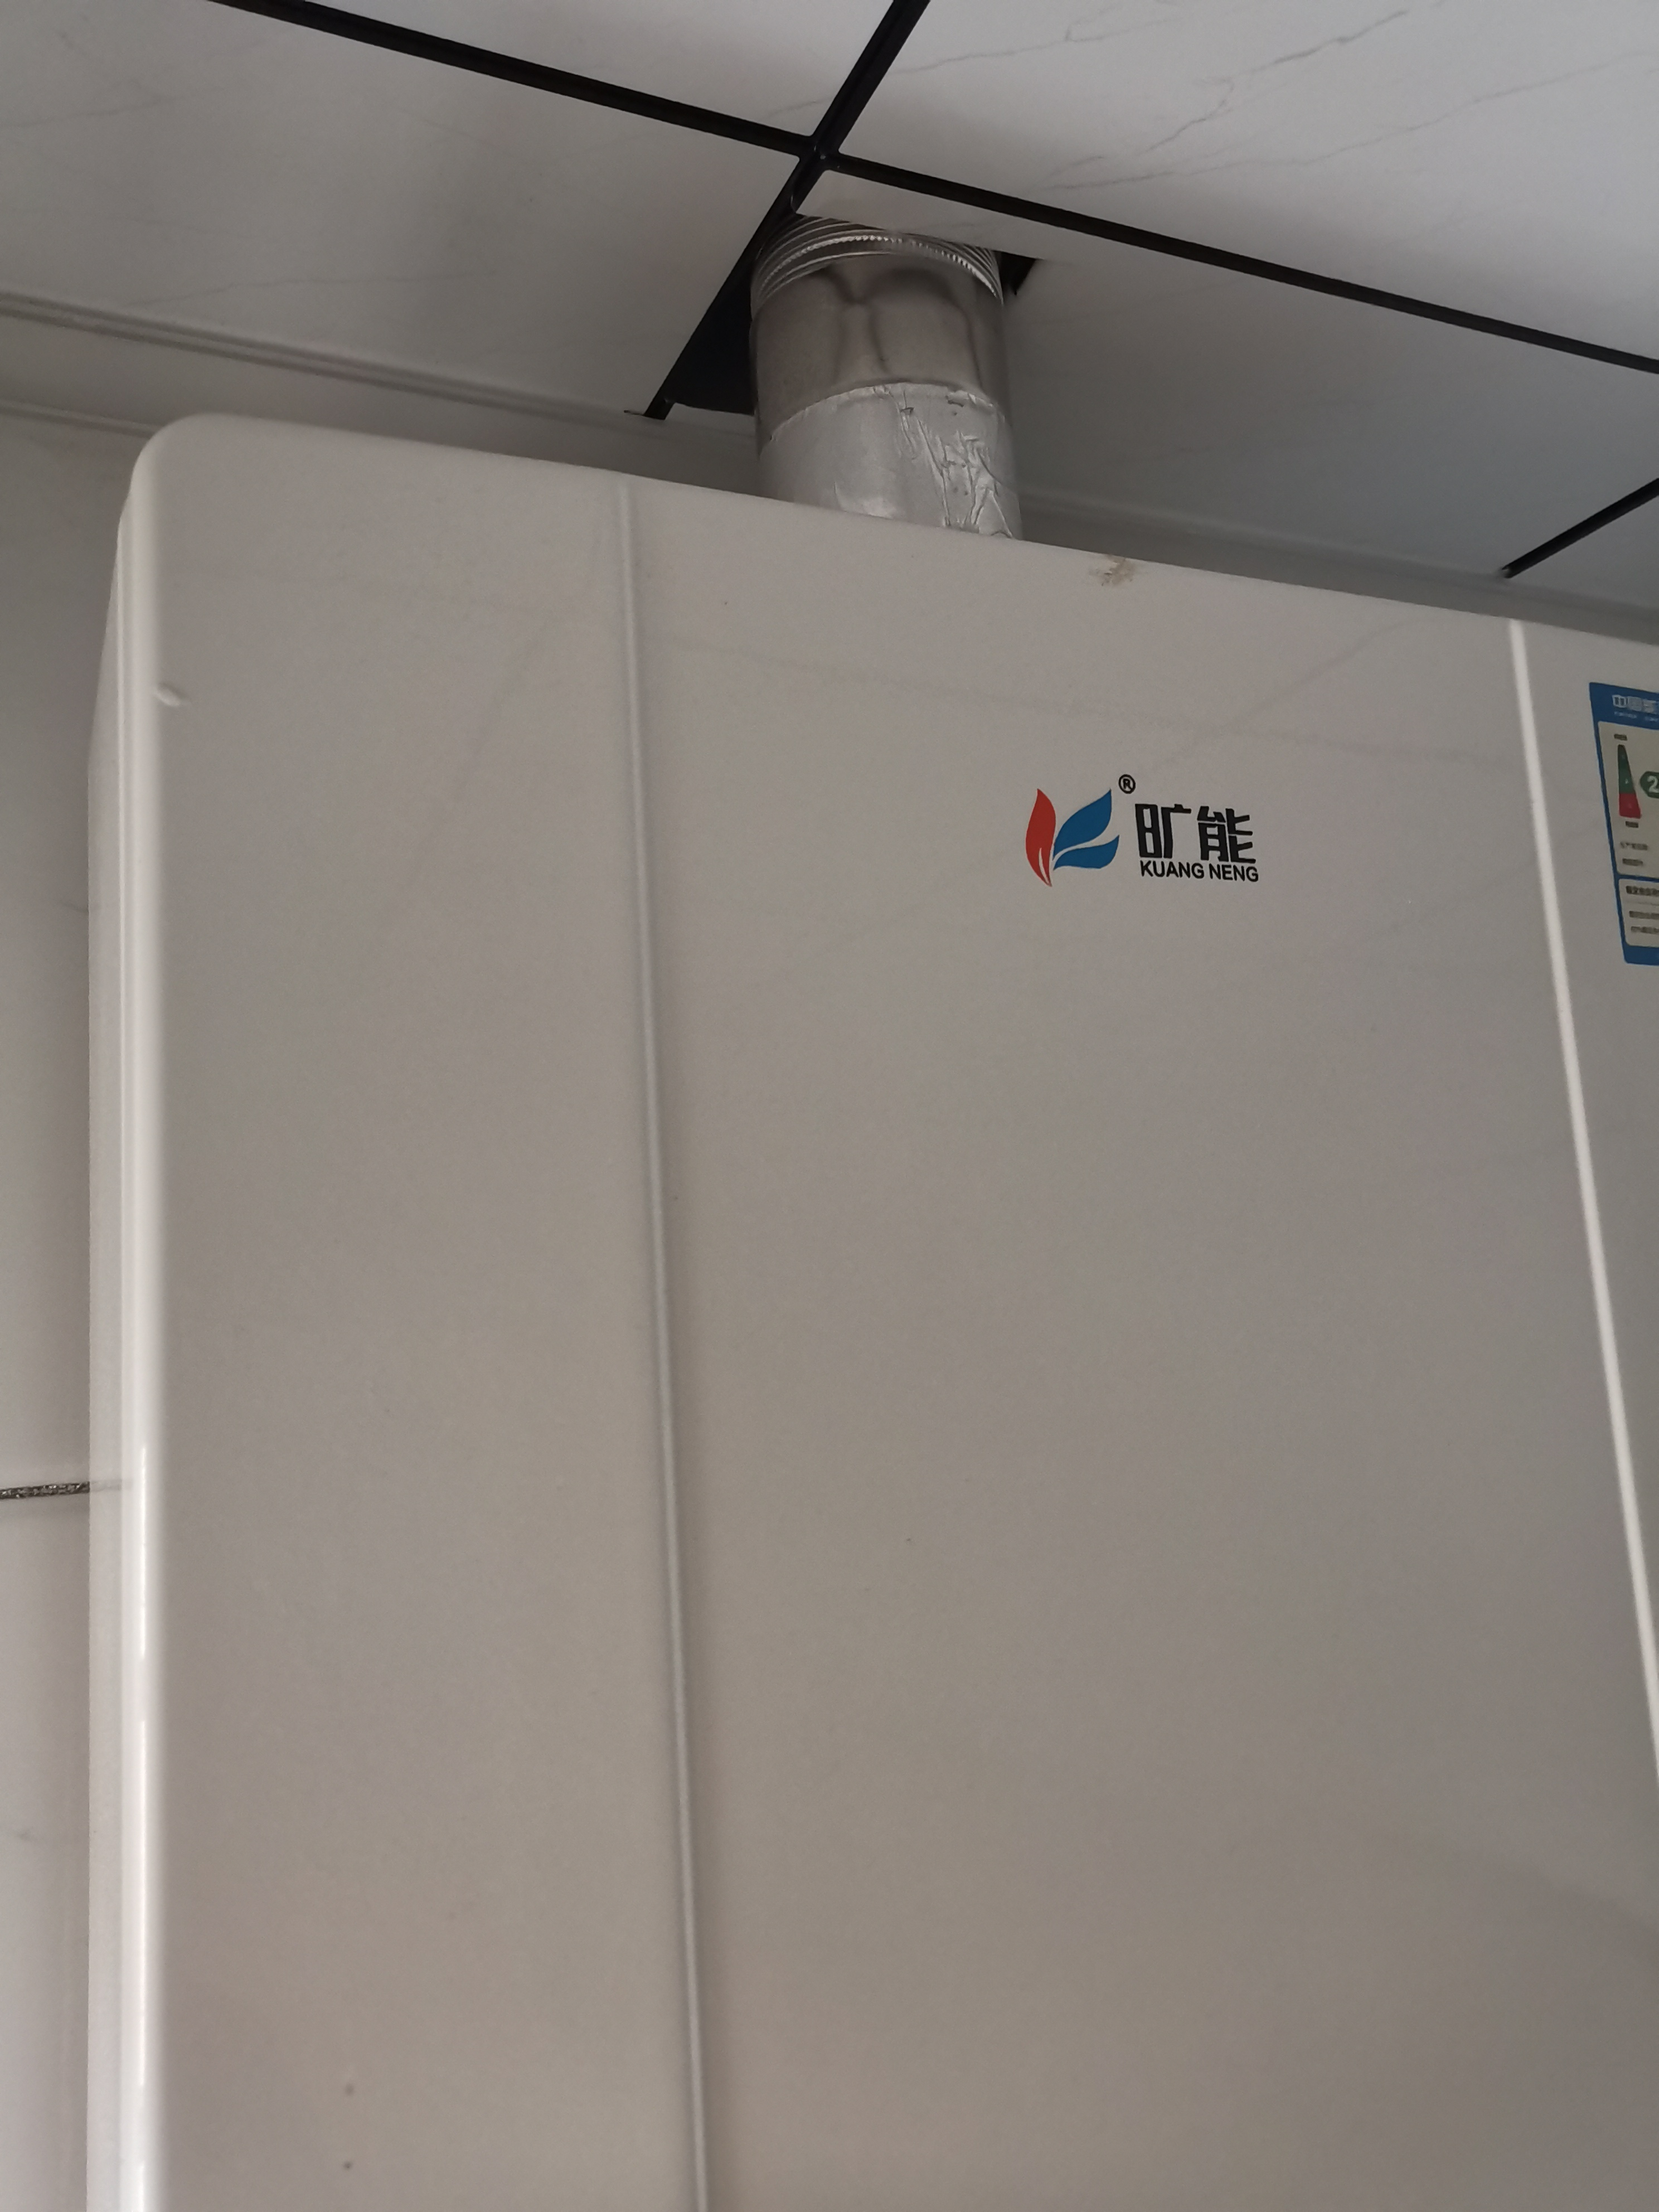loudou: (983, 744, 1310, 911)
